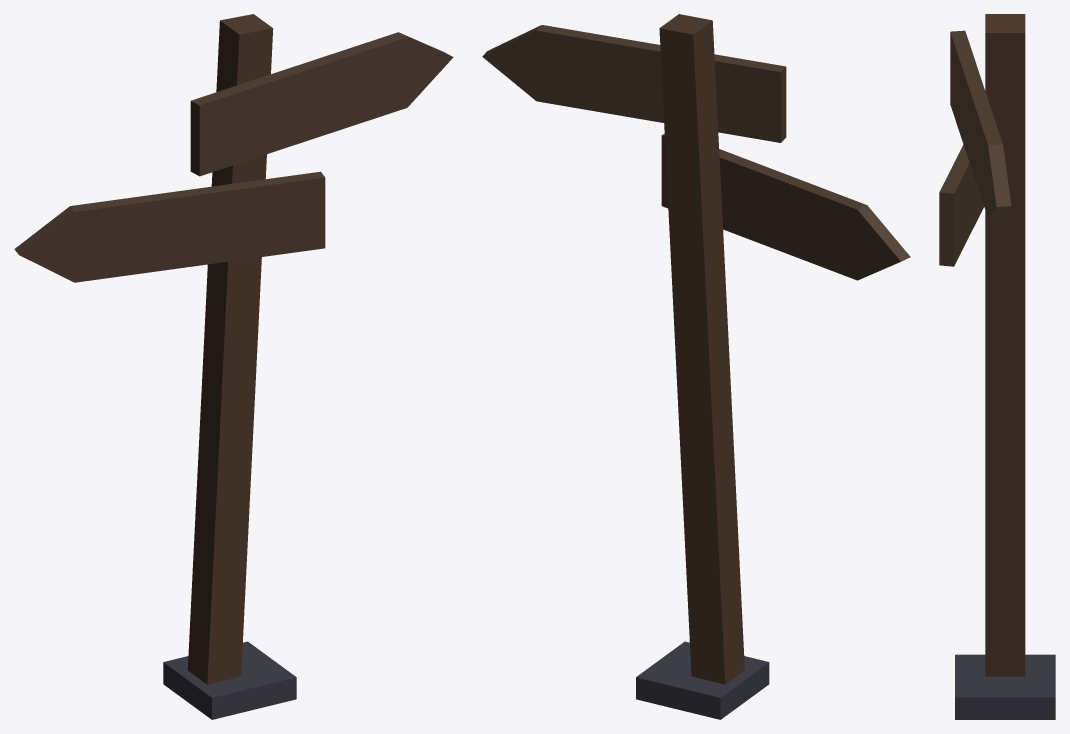
File: signpost.glb
3 renders of one model, left to right at view 1: azimuth 30°, elevation 25°; view 2: azimuth 150°, elevation 25°; view 3: azimuth 270°, elevation 25°, orthographic. The views are drawn at different scales.
Parts seen in each view (by area): view 1: signpost; view 2: signpost; view 3: signpost.
Part boxes in pixels (x1,y1,x2,y2): signpost: (14,14,453,719); signpost: (482,14,910,719); signpost: (939,14,1055,719).
Size of the model in its own units: 1.01 by 1.5 by 0.2312.
